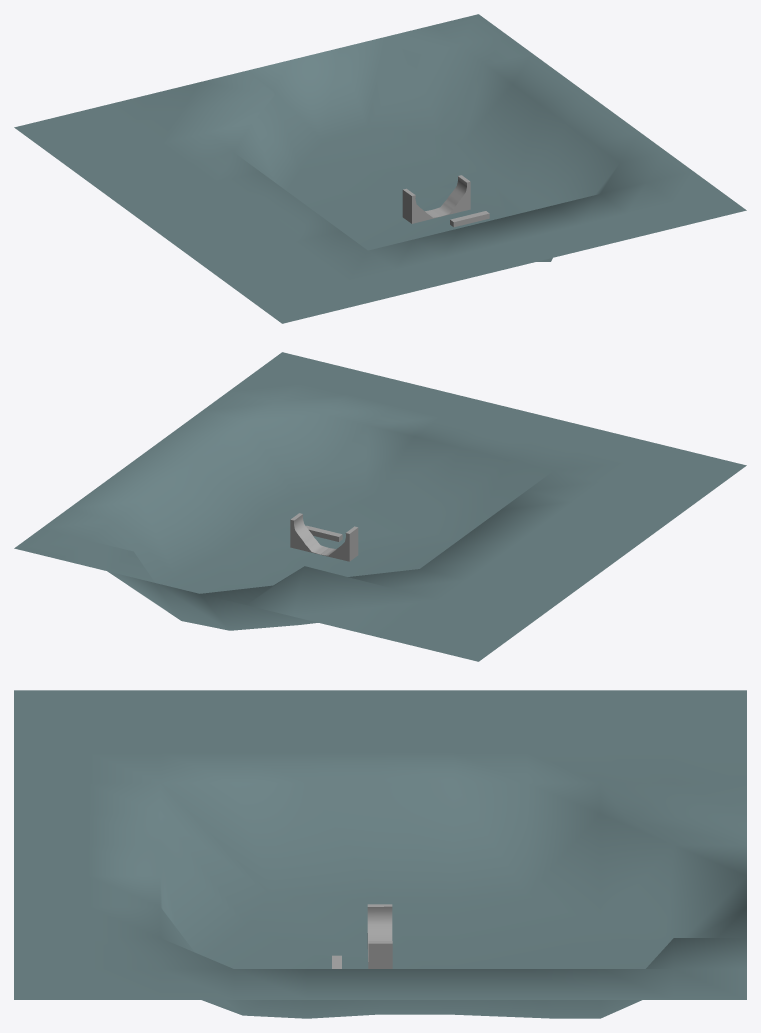
The model's file is Beginning the skate park..fbx.
3 renders of one model, top to bottom at view 1: azimuth 30°, elevation 25°; view 2: azimuth 150°, elevation 25°; view 3: azimuth 270°, elevation 25°, orthographic. The views are drawn at different scales.
Parts seen in each view (by area): view 1: pPlane1, pCube1, pCube2; view 2: pPlane1, pCube1, pCube2; view 3: pPlane1, pCube2, pCube1.
Boxes of the visible parts, x1,y1,x2,y2 form: pPlane1: (14, 14, 746, 323); pCube1: (432, 175, 470, 216); pCube2: (402, 188, 440, 223); pPlane1: (14, 352, 746, 661); pCube1: (290, 513, 328, 554); pCube2: (320, 526, 358, 561); pPlane1: (14, 690, 746, 1018); pCube2: (367, 904, 392, 961); pCube1: (368, 941, 392, 968).
Size of the model in its own units: 145 by 20.86 by 145.
